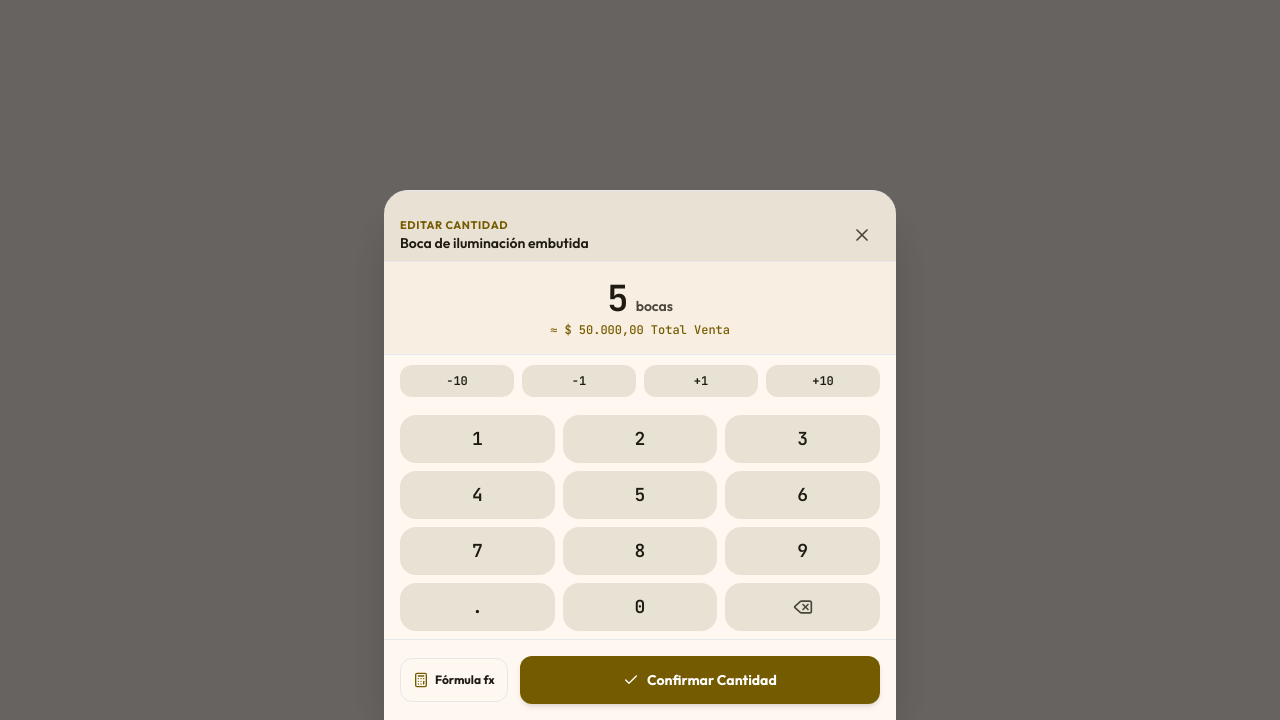
it: MobileQuantitySheet › el keypad numérico táctil agrega dígitos y backspace borra
The width and height of the screenshot is (1280, 720).
# Borrar dígito
Click the button named "Borrar dígito". click: (803, 607)
box: [725, 583, 880, 631]
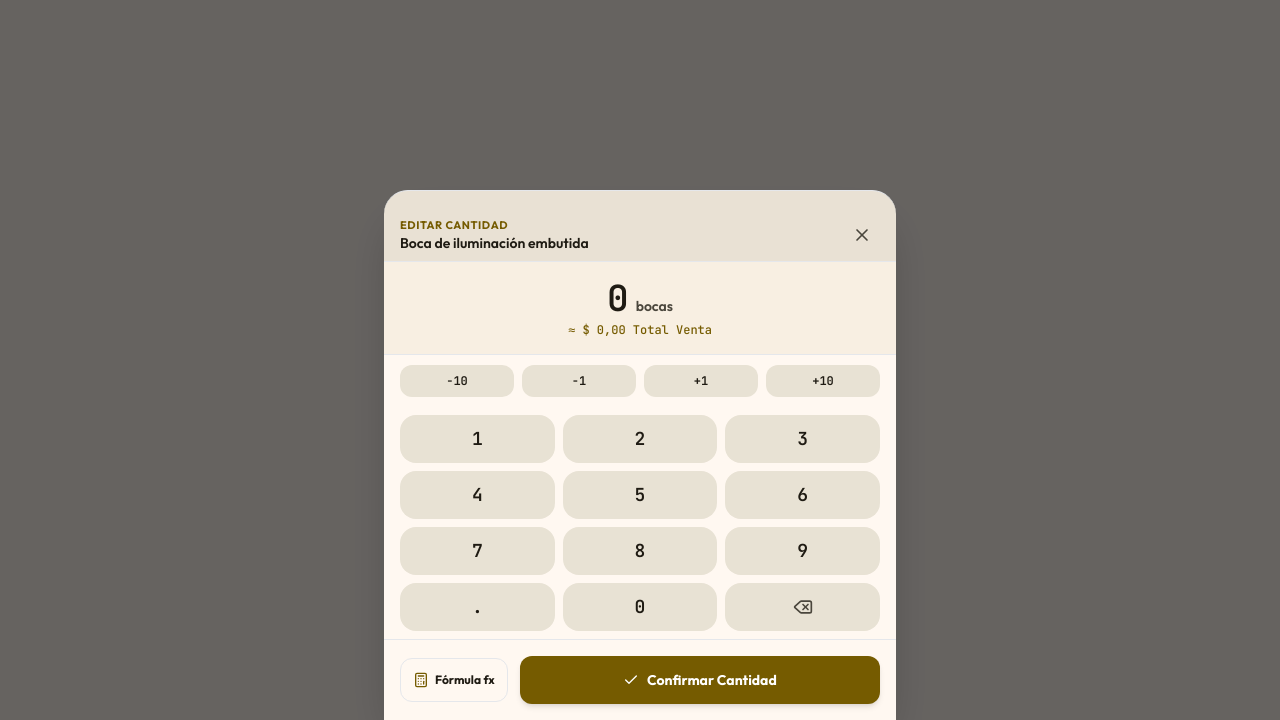
# Tocar teclas '2' y '5'
Click the button "2". click: (640, 439)
box: [563, 415, 717, 463]
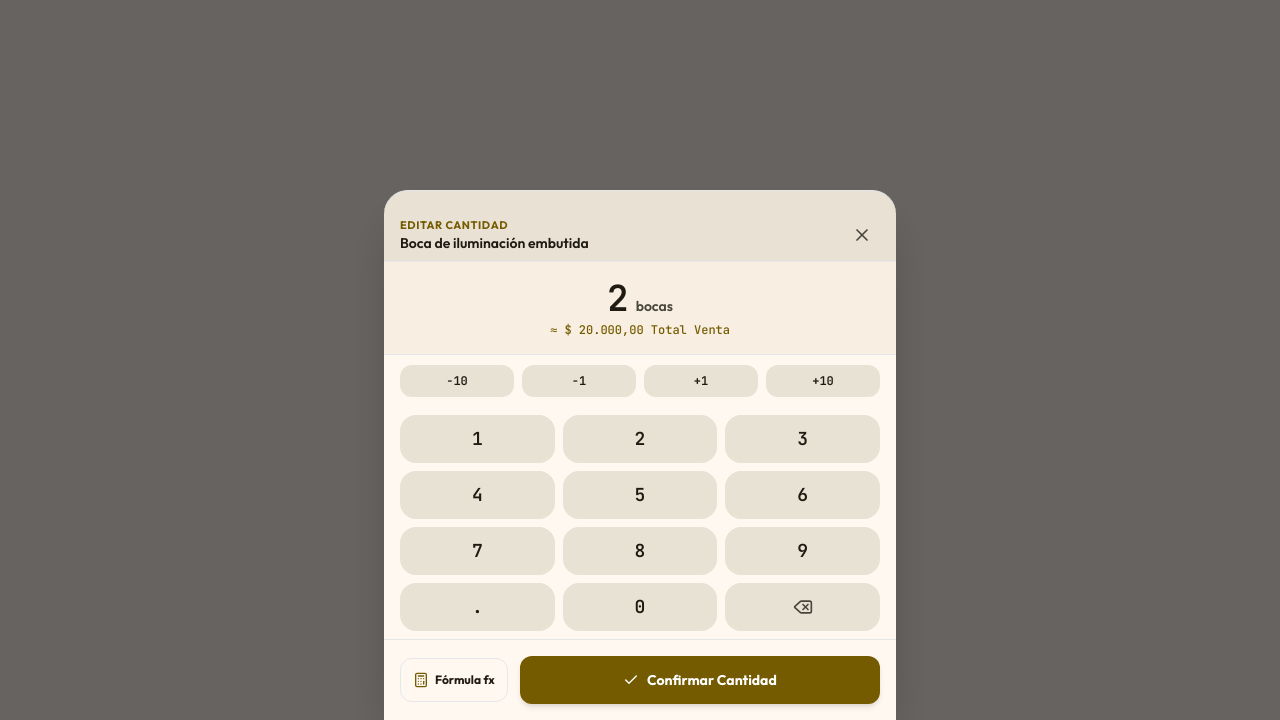
Click the button "5". click: (640, 495)
box: [563, 471, 717, 519]
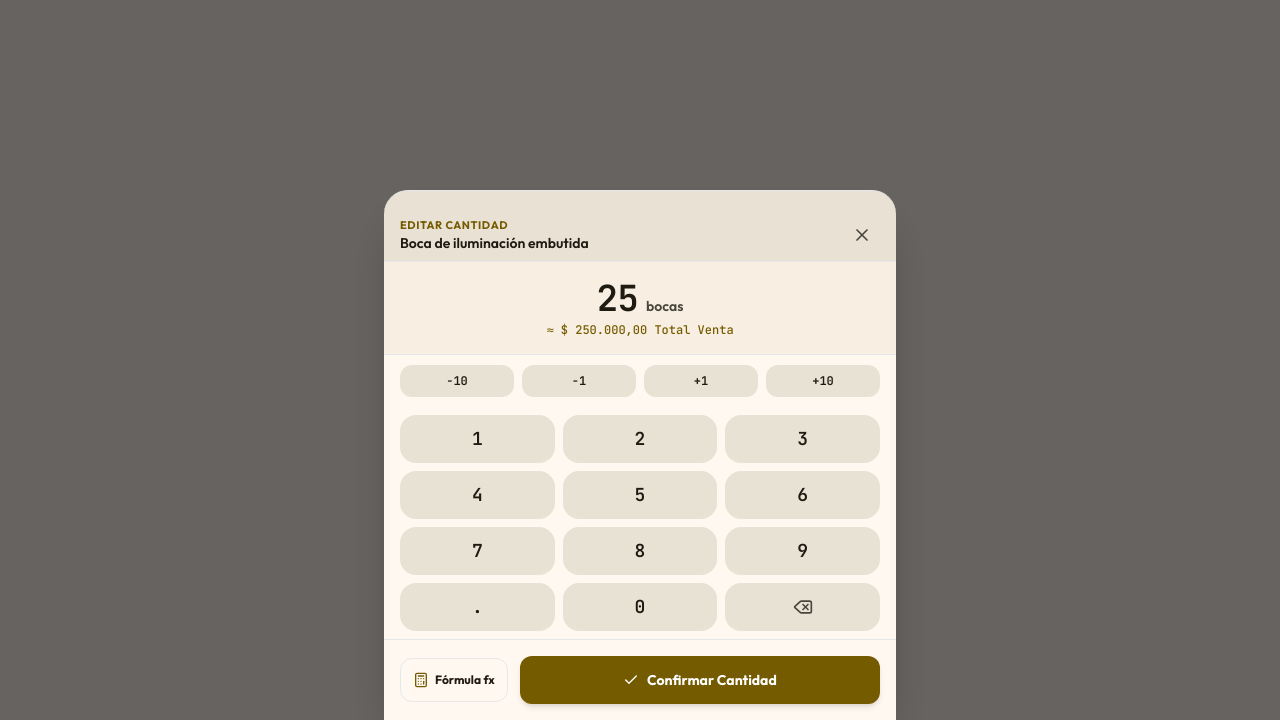
Check: the text "25" is shown, box [597, 278, 638, 318]
